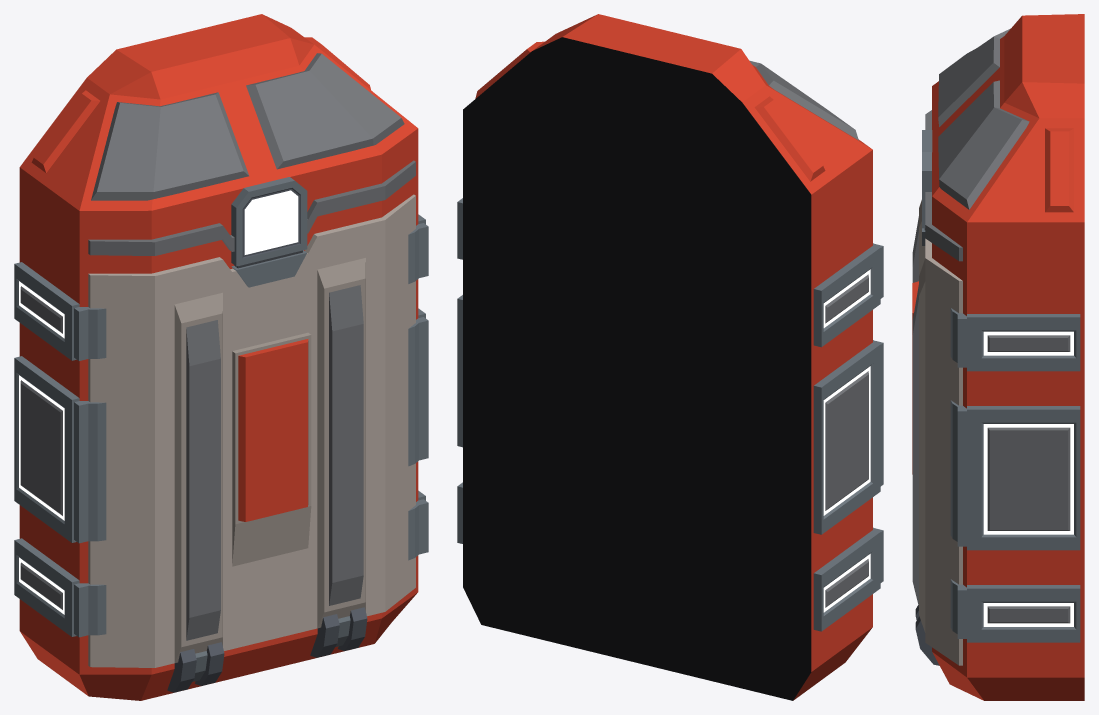
Rendered from SM_Fisrt-aid_Kit_On_Wall.glb.
The picture shows the model from 3 angles, left to right: view 1: azimuth 30°, elevation 25°; view 2: azimuth 150°, elevation 25°; view 3: azimuth 270°, elevation 25°; orthographic projection. The views are drawn at different scales.
Parts seen in each view (by area): view 1: SM_Fisrt-aid_Kit_On_Wall; view 2: SM_Fisrt-aid_Kit_On_Wall; view 3: SM_Fisrt-aid_Kit_On_Wall.
Boxes of the visible parts, left/top/right/bottom form: SM_Fisrt-aid_Kit_On_Wall: left=14, top=14, right=428, bottom=700; SM_Fisrt-aid_Kit_On_Wall: left=457, top=14, right=883, bottom=700; SM_Fisrt-aid_Kit_On_Wall: left=912, top=14, right=1084, bottom=700.
Size of the model in its own units: 0.4961 by 0.7909 by 0.2129.
Materials: 2 (1 with a texture image).
